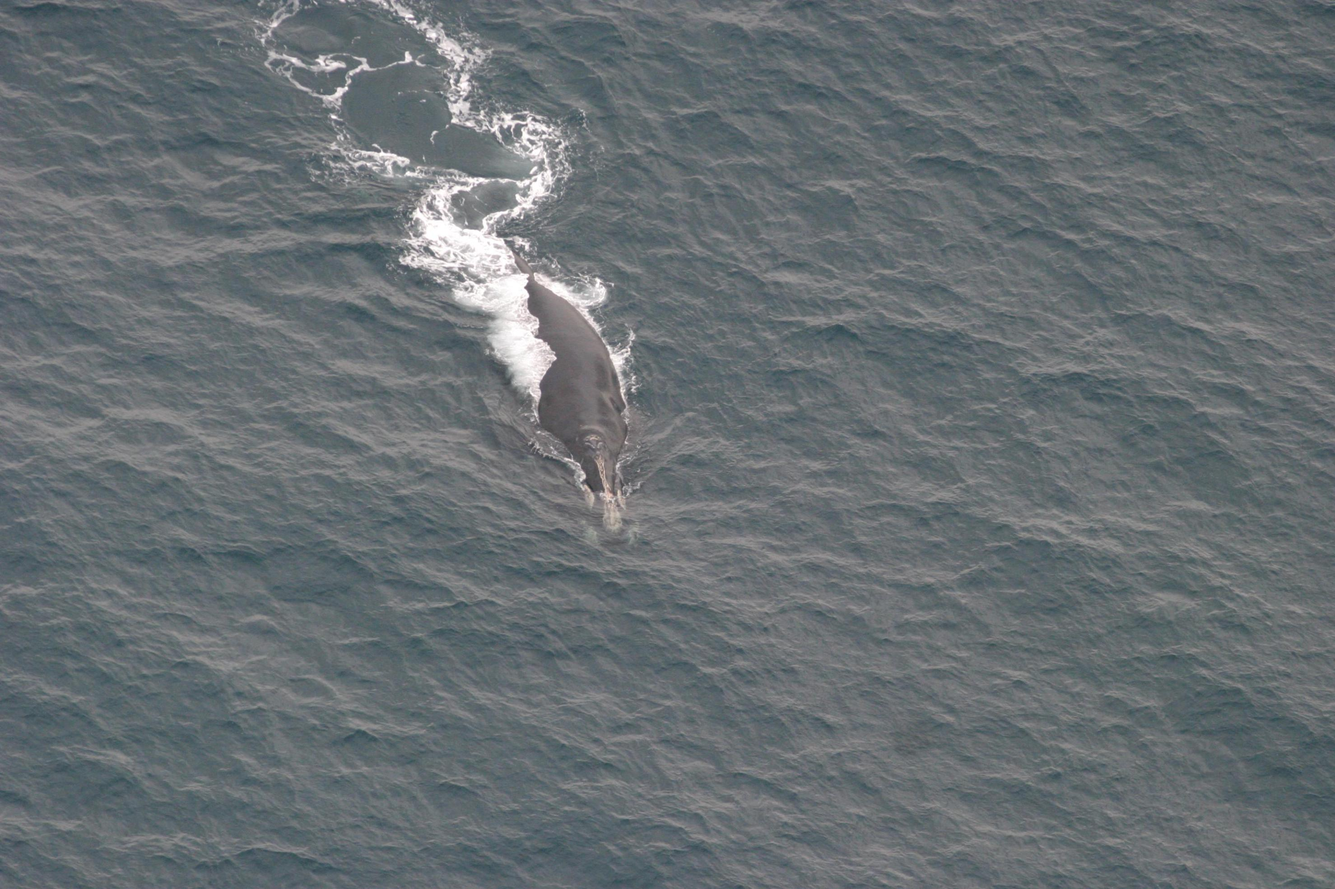whale: (436, 148, 646, 564)
